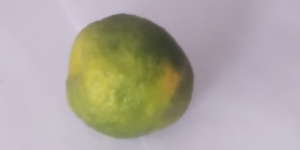BAD: (63, 12, 195, 142)
